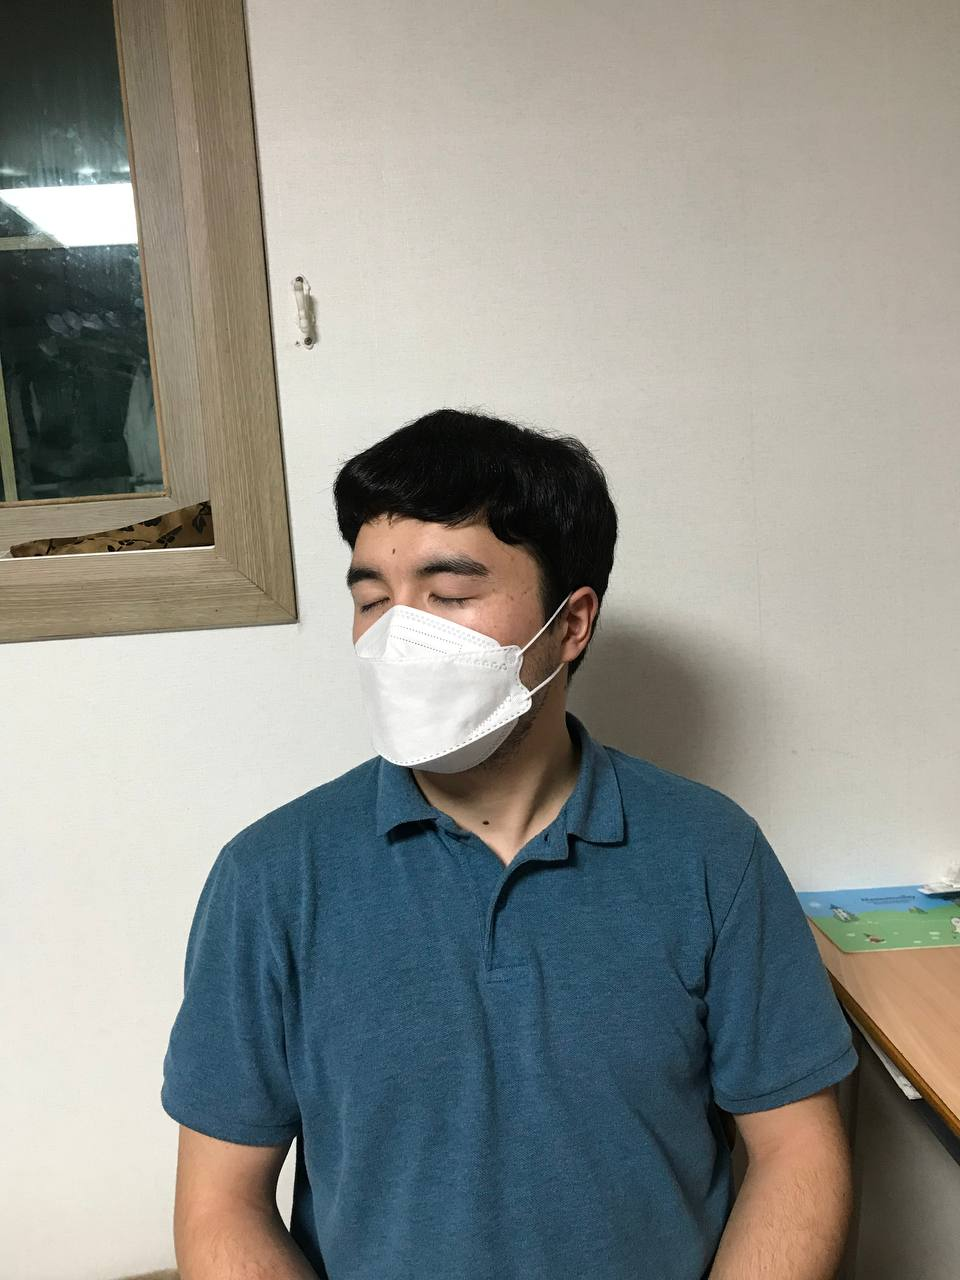Mask: (344, 611, 597, 772)
